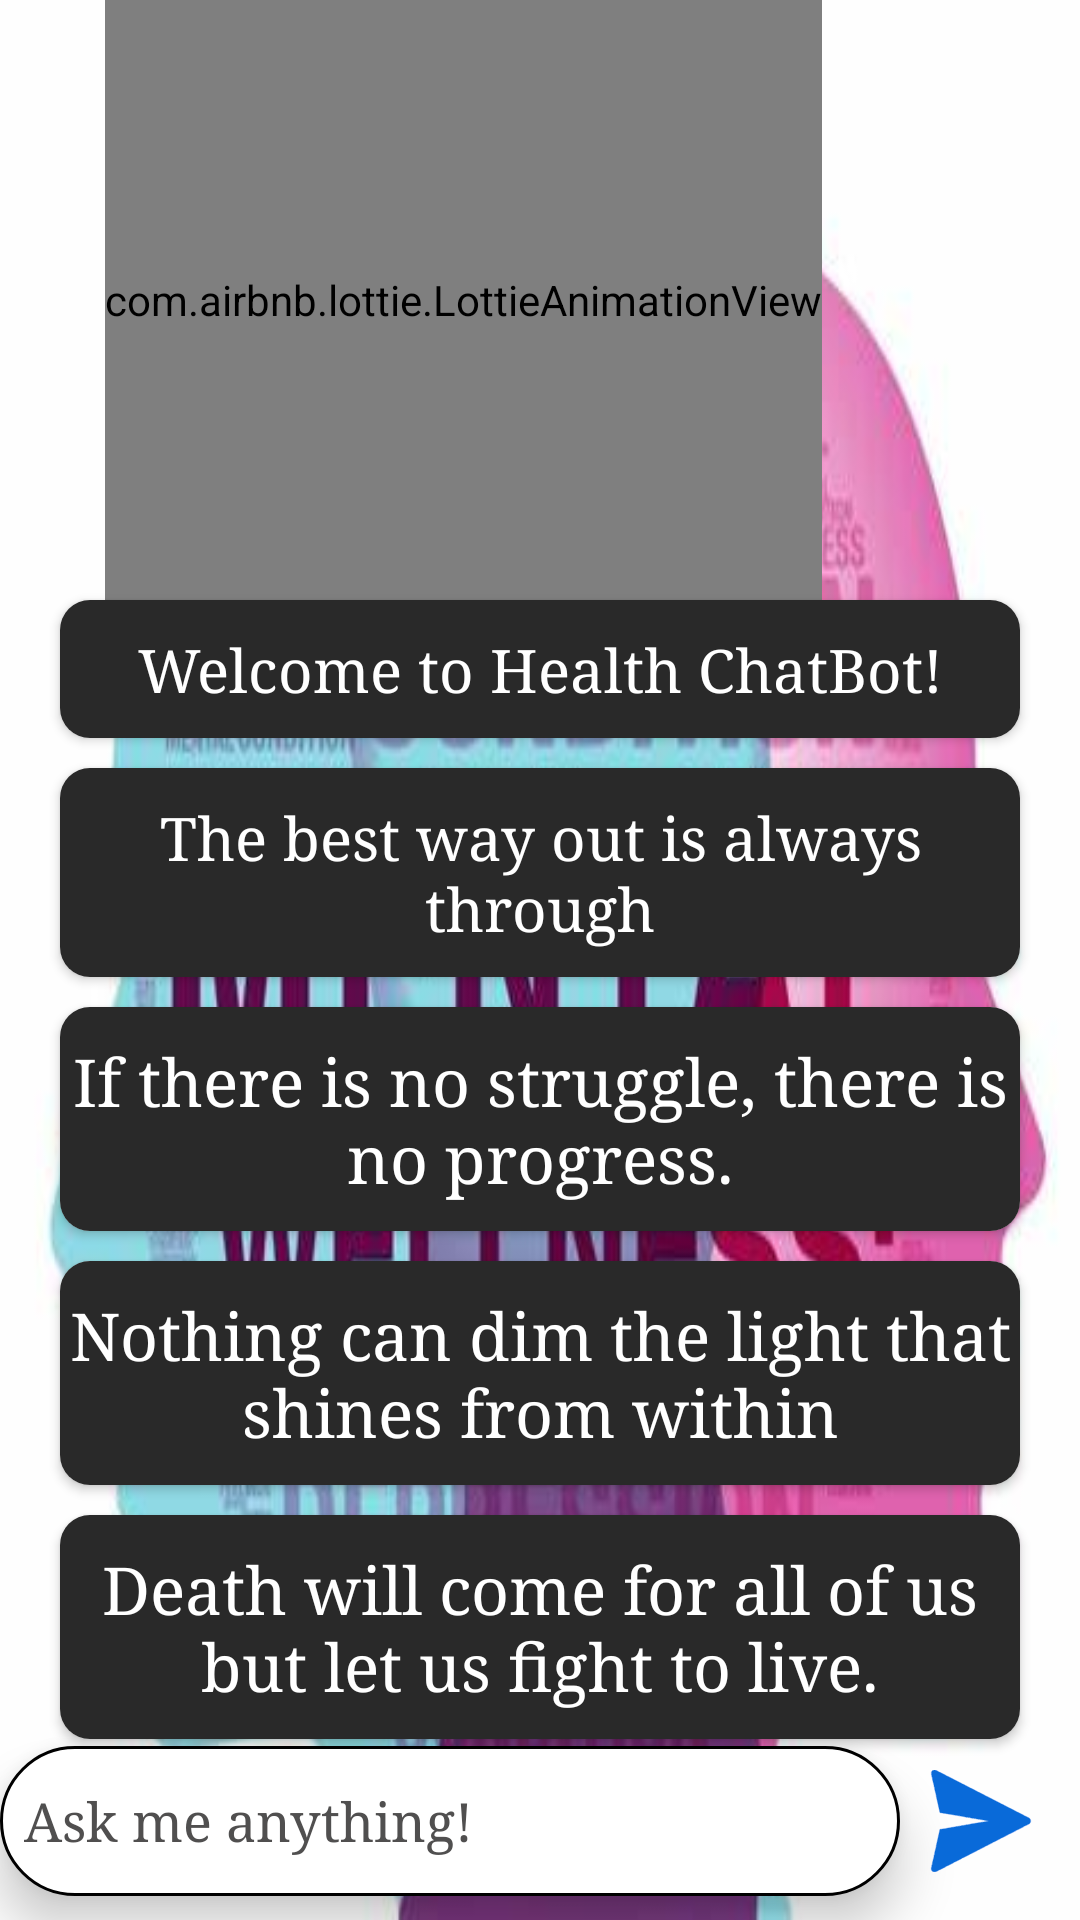

Screen size 1080px×1920px. Icon name, then its center in pixels as [x,y]:
send: [981,1821]
